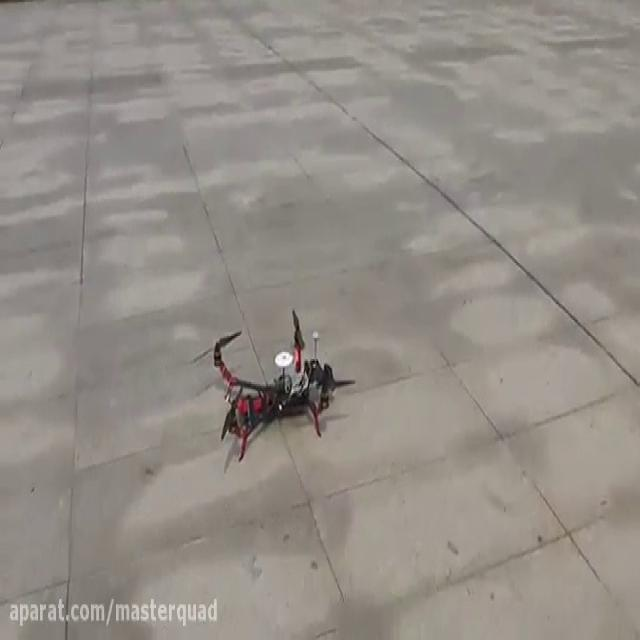drone: (180, 304, 358, 466)
